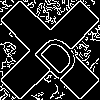D: (25, 25, 83, 83)
